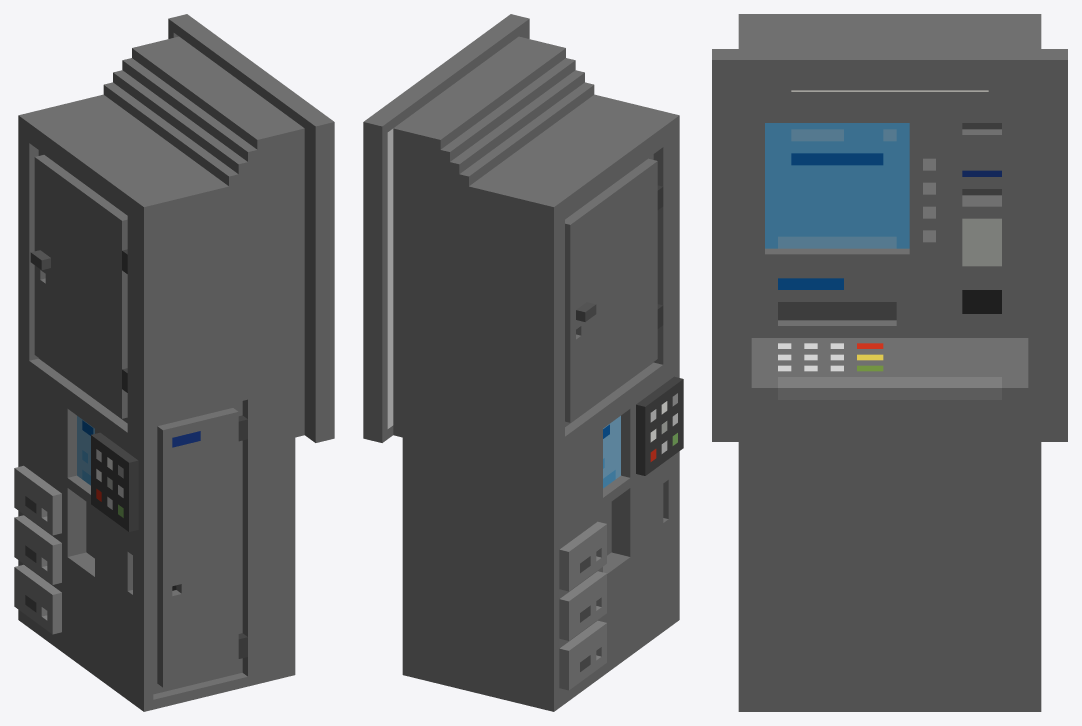
The model's file is D.A.B.seul.obj.
The picture shows the model from 3 angles, left to right: view 1: azimuth 30°, elevation 25°; view 2: azimuth 150°, elevation 25°; view 3: azimuth 270°, elevation 25°; orthographic projection. The views are drawn at different scales.
Visible parts, largest first — view 1: D; view 2: D; view 3: D.
Part boxes in pixels (<box>): D: <box>14,14,334,711</box>; D: <box>363,14,683,711</box>; D: <box>712,14,1067,711</box>.
Bounding box in the file's own units: 0.525 × 1.4 × 0.675.
